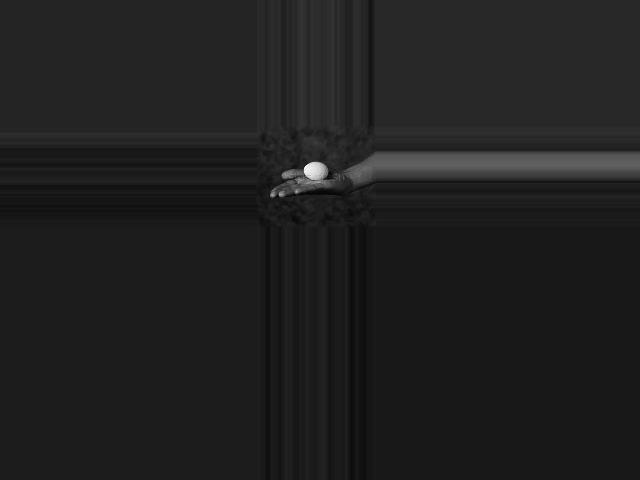egg: (304, 161, 328, 180)
